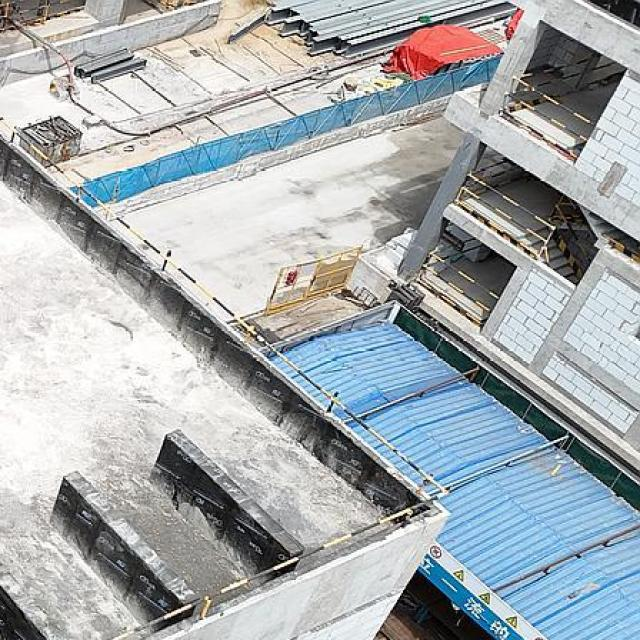edge_guardrail: (0, 115, 450, 640), (453, 159, 558, 260), (499, 56, 596, 160), (414, 236, 501, 326), (0, 0, 86, 33)
